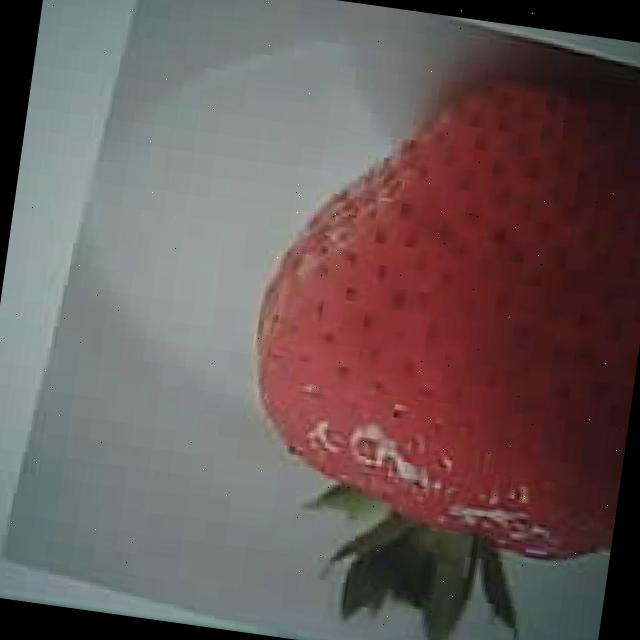strawberry: (232, 43, 640, 559)
